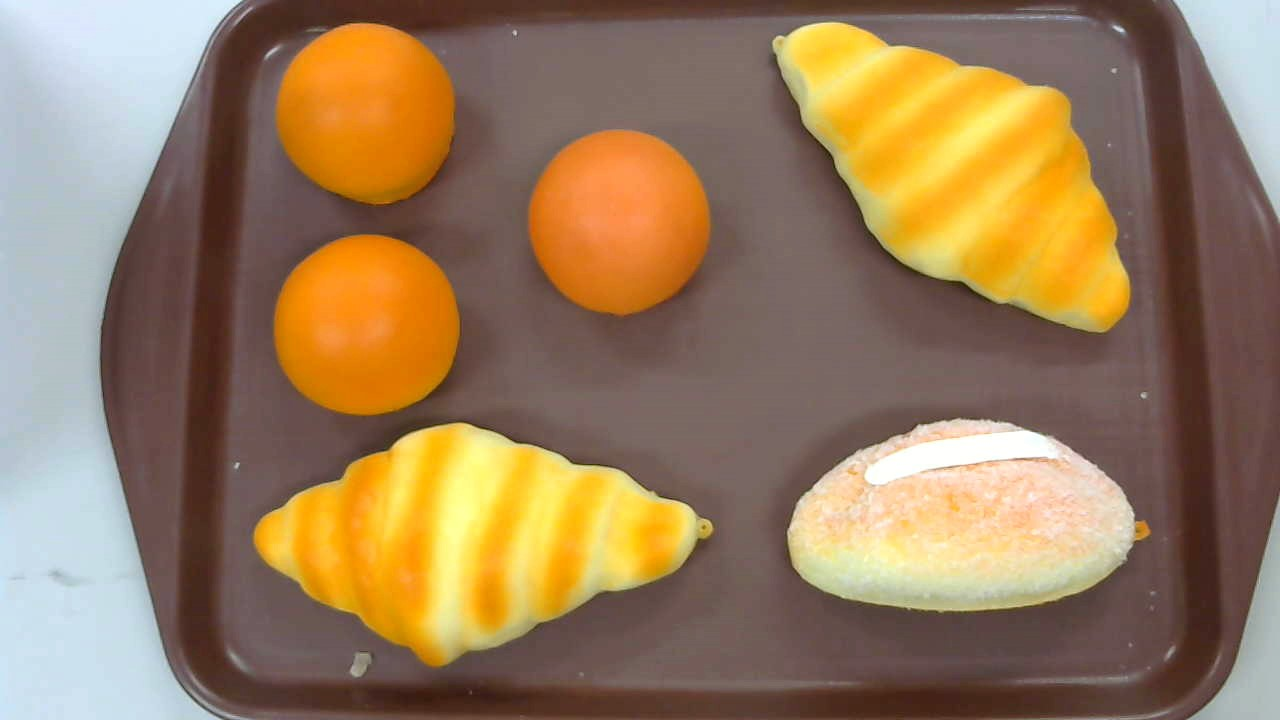bun: (526, 128, 710, 317), (274, 233, 461, 418), (274, 22, 455, 203)
coconut: (786, 417, 1150, 613)
croissant: (252, 422, 714, 668), (771, 22, 1131, 334)
